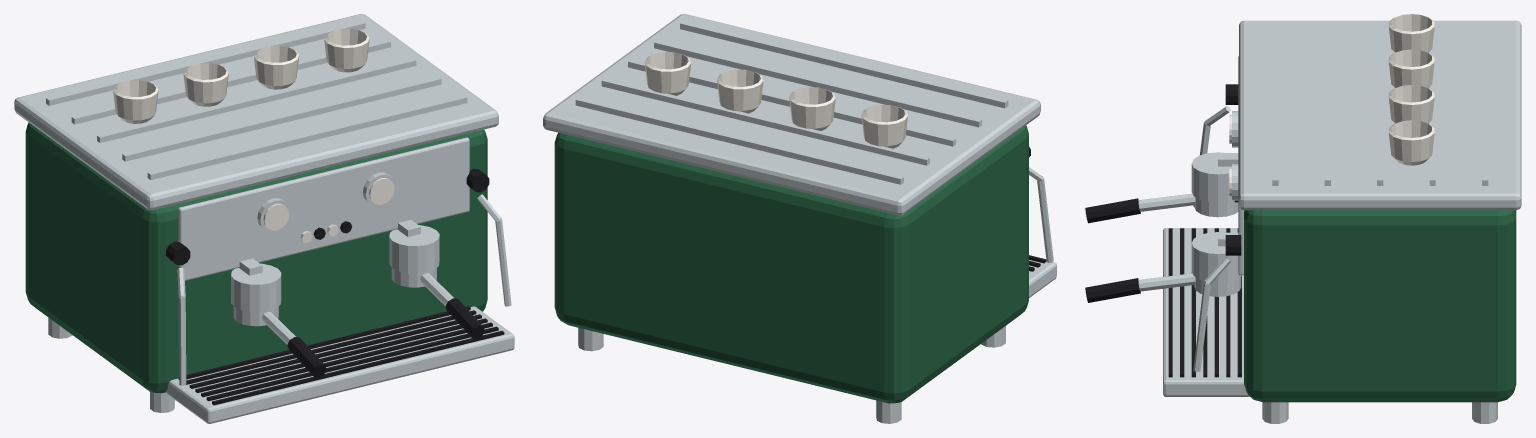
The model's file is espresso_machine.fbx.
3 renders of one model, left to right at view 1: azimuth 30°, elevation 25°; view 2: azimuth 150°, elevation 25°; view 3: azimuth 270°, elevation 25°, orthographic. The views are drawn at different scales.
Parts seen in each view (by area): view 1: espresso_machine_LOD0; view 2: espresso_machine_LOD0; view 3: espresso_machine_LOD0.
Part boxes in pixels (bbox=[...]): espresso_machine_LOD0: bbox=[14, 14, 514, 423]; espresso_machine_LOD0: bbox=[543, 14, 1056, 423]; espresso_machine_LOD0: bbox=[1085, 14, 1521, 423].
Size of what is drawn, in the model's own units: 0.8 by 0.568 by 0.8331.
Materials: 1 (1 with a texture image).
